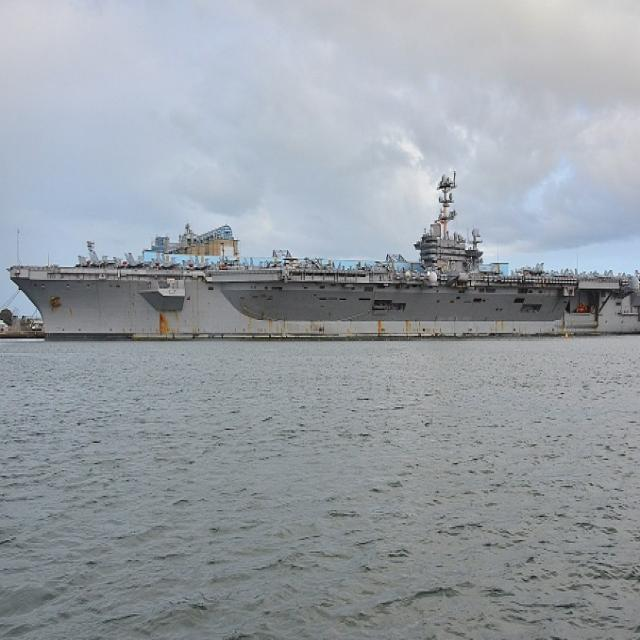Portanaves: (6, 161, 640, 348)
